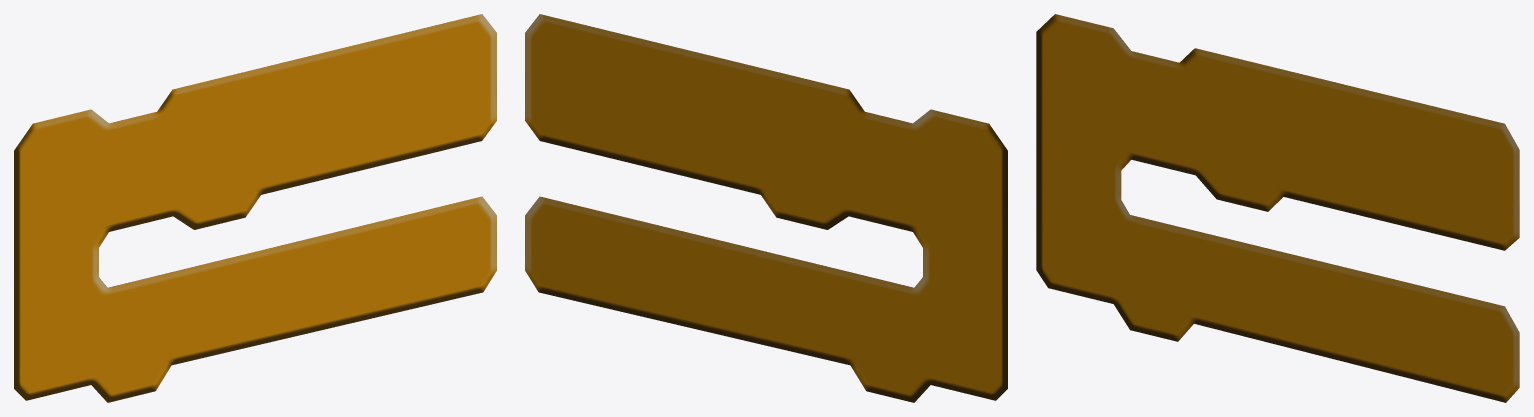
The model's file is Block02_Plane.fbx.
3 renders of one model, left to right at view 1: azimuth 30°, elevation 25°; view 2: azimuth 150°, elevation 25°; view 3: azimuth 330°, elevation 25°, orthographic.
Visible parts, largest first — view 1: pCube3; view 2: pCube3; view 3: pCube3.
Part boxes in pixels (x1,y1,x2,y2): pCube3: (14, 14, 496, 402); pCube3: (525, 14, 1007, 402); pCube3: (1036, 14, 1519, 402).
Size of the model in its own units: 24.65 by 14.52 by 4.77e-07.
